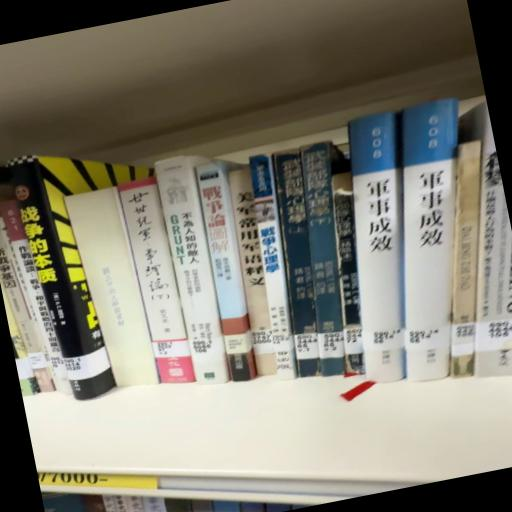backward: (65, 185, 161, 395)
book: (360, 107, 507, 386), (314, 110, 447, 391), (157, 152, 247, 390), (262, 146, 346, 379), (114, 174, 198, 397)
